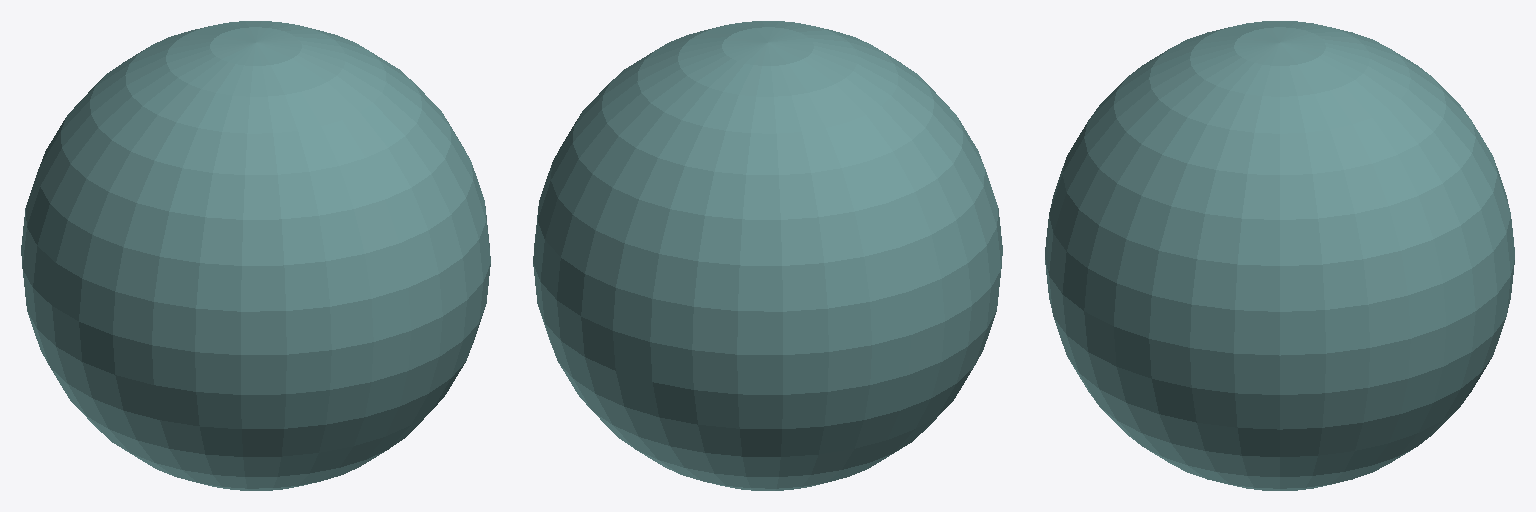
The model's file is sun.obj.
3 views of the same model, side by side, from view 1: azimuth 30°, elevation 25°; view 2: azimuth 150°, elevation 25°; view 3: azimuth 270°, elevation 25° (orthographic).
Visible parts, largest first — view 1: Sphere; view 2: Sphere; view 3: Sphere.
Boxes of the visible parts, box(x1,y1,x2,y2) form: Sphere: box(21, 21, 490, 490); Sphere: box(533, 21, 1002, 490); Sphere: box(1045, 21, 1514, 490).
Bounding box in the file's own units: 2 × 2 × 2.